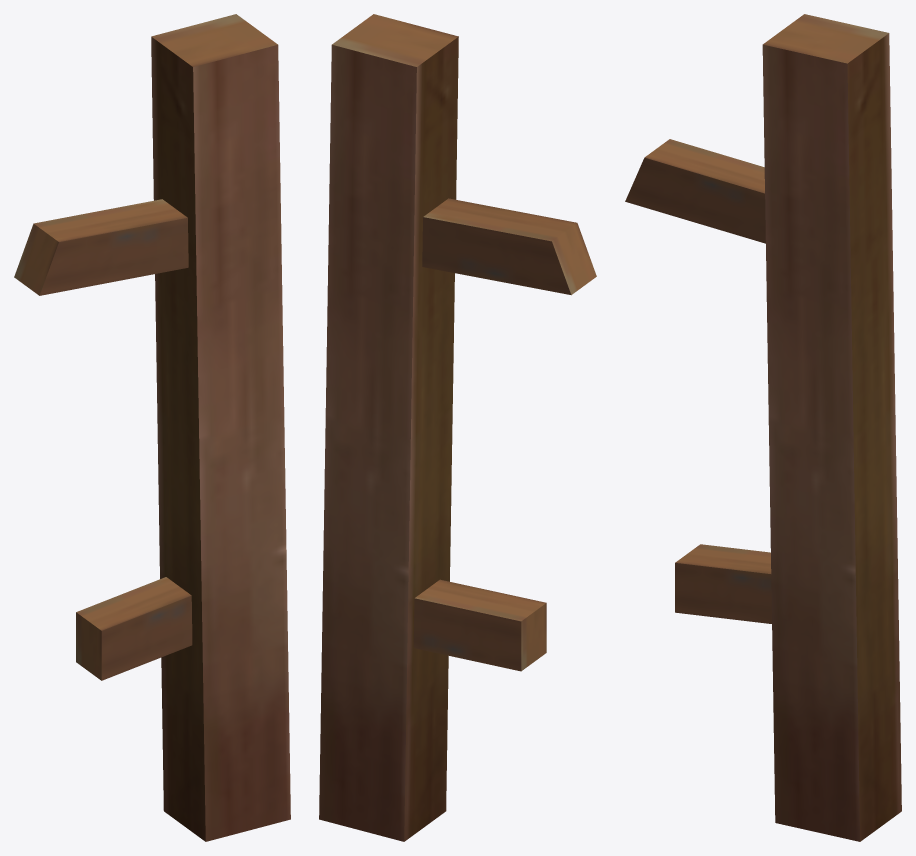
The model's file is Scene_zalan_01.FBX.
3 renders of one model, left to right at view 1: azimuth 30°, elevation 25°; view 2: azimuth 150°, elevation 25°; view 3: azimuth 330°, elevation 25°, orthographic.
Parts seen in each view (by area): view 1: Scene_zalan_01; view 2: Scene_zalan_01; view 3: Scene_zalan_01.
Boxes of the visible parts, x1,y1,x2,y2 form: Scene_zalan_01: (14, 14, 290, 841); Scene_zalan_01: (319, 14, 596, 841); Scene_zalan_01: (625, 14, 901, 841).
Bounding box in the file's own units: 31.55 × 96.49 × 9.41.
